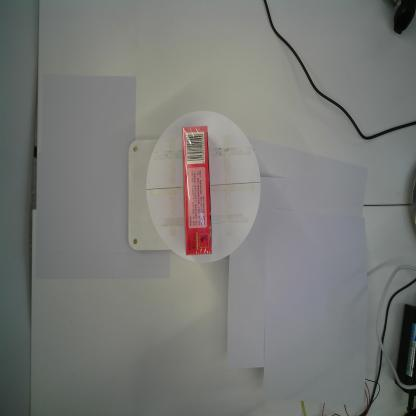Instant Drink: (182, 126, 212, 256)
